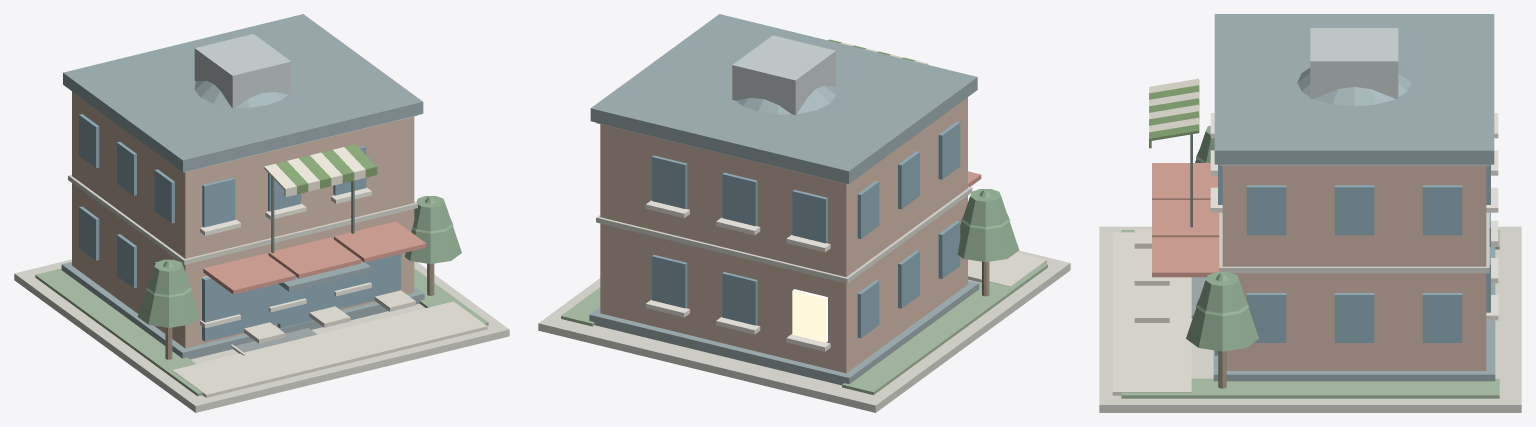
Rendered from remaster_shop_7.glb.
3 renders of one model, left to right at view 1: azimuth 30°, elevation 25°; view 2: azimuth 150°, elevation 25°; view 3: azimuth 270°, elevation 25°, orthographic. The views are drawn at different scales.
Parts seen in each view (by area): view 1: remaster_shop_7 roof, remaster_shop_7 brick, remaster_shop_7 glass, remaster_shop_7 cream, remaster_shop_7 stone, remaster_shop_7 red, remaster_shop_7 leaf, remaster_shop_7 metal, remaster_shop_7 green, remaster_shop_7 white, remaster_shop_7 asphalt, remaster_shop_7 bark; view 2: remaster_shop_7 brick, remaster_shop_7 roof, remaster_shop_7 glass, remaster_shop_7 stone, remaster_shop_7 metal, remaster_shop_7 green, remaster_shop_7 leaf, remaster_shop_7 white, remaster_shop_7 warm, remaster_shop_7 cream; view 3: remaster_shop_7 roof, remaster_shop_7 brick, remaster_shop_7 stone, remaster_shop_7 glass, remaster_shop_7 cream, remaster_shop_7 red, remaster_shop_7 green, remaster_shop_7 metal, remaster_shop_7 leaf, remaster_shop_7 white, Canvas stripe.047.
Part boxes in pixels (left/top/right/bottom): remaster_shop_7 roof: left=61, top=14, right=424, bottom=359; remaster_shop_7 brick: left=72, top=91, right=414, bottom=348; remaster_shop_7 glass: left=79, top=114, right=401, bottom=341; remaster_shop_7 cream: left=172, top=290, right=487, bottom=397; remaster_shop_7 stone: left=14, top=115, right=509, bottom=412; remaster_shop_7 red: left=203, top=221, right=426, bottom=294; remaster_shop_7 leaf: left=137, top=196, right=461, bottom=327; remaster_shop_7 metal: left=194, top=34, right=291, bottom=107; remaster_shop_7 green: left=35, top=268, right=488, bottom=396; remaster_shop_7 white: left=200, top=187, right=371, bottom=355; remaster_shop_7 asphalt: left=233, top=328, right=316, bottom=353; remaster_shop_7 bark: left=165, top=263, right=434, bottom=359; remaster_shop_7 brick: left=600, top=97, right=967, bottom=373; remaster_shop_7 roof: left=589, top=14, right=979, bottom=385; remaster_shop_7 glass: left=652, top=121, right=960, bottom=338; remaster_shop_7 stone: left=538, top=122, right=1070, bottom=412; remaster_shop_7 metal: left=732, top=35, right=835, bottom=114; remaster_shop_7 green: left=561, top=263, right=1047, bottom=394; remaster_shop_7 leaf: left=957, top=189, right=1019, bottom=262; remaster_shop_7 white: left=645, top=200, right=830, bottom=351; remaster_shop_7 warm: left=792, top=289, right=827, bottom=342; remaster_shop_7 cream: left=968, top=252, right=1046, bottom=286; remaster_shop_7 roof: left=1213, top=14, right=1495, bottom=381; remaster_shop_7 brick: left=1222, top=165, right=1486, bottom=370; remaster_shop_7 stone: left=1099, top=164, right=1521, bottom=412; remaster_shop_7 glass: left=1214, top=164, right=1490, bottom=355; remaster_shop_7 cream: left=1112, top=229, right=1191, bottom=395; remaster_shop_7 red: left=1152, top=163, right=1219, bottom=277; remaster_shop_7 green: left=1121, top=230, right=1499, bottom=398; remaster_shop_7 metal: left=1310, top=28, right=1398, bottom=98; remaster_shop_7 leaf: left=1186, top=125, right=1258, bottom=351; remaster_shop_7 white: left=1210, top=113, right=1498, bottom=320; Canvas stripe.047: left=1149, top=124, right=1199, bottom=141.
Size of the model in its own units: 9.64 by 7 by 9.6.
